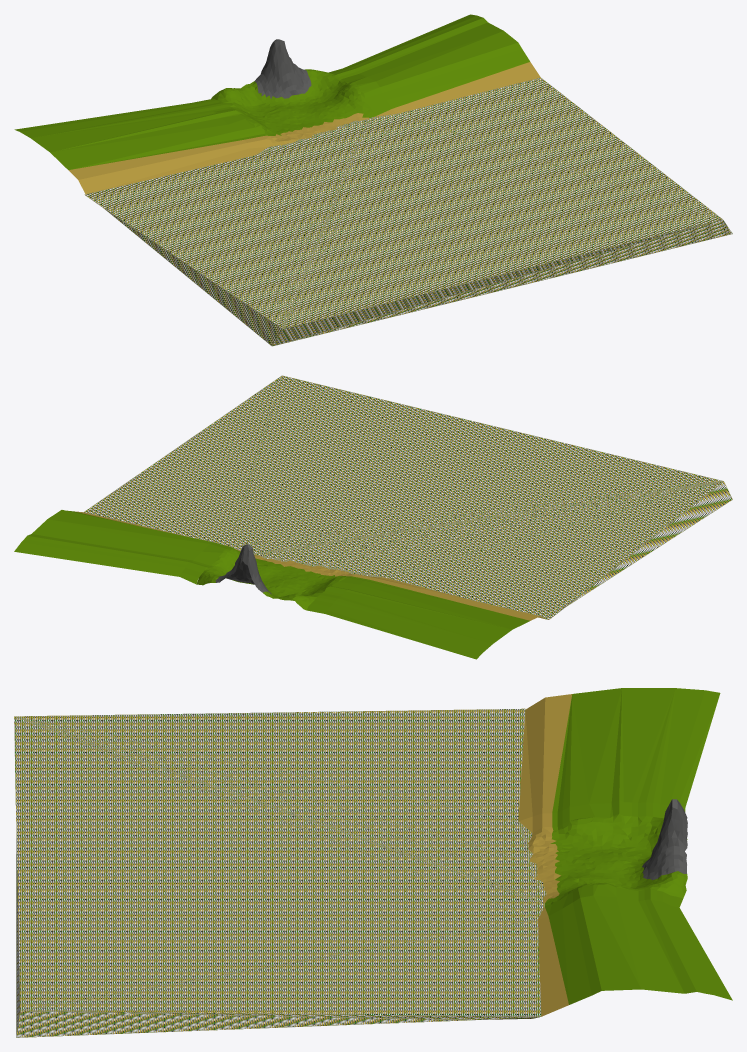
File: beacj.FBX
3 renders of one model, top to bottom at view 1: azimuth 30°, elevation 25°; view 2: azimuth 150°, elevation 25°; view 3: azimuth 270°, elevation 25°, orthographic. The views are drawn at different scales.
Visible parts, largest first — view 1: Object003, beachFar, beach0; view 2: Object003, beachFar, beach0; view 3: Object003, beachFar, beach0.
Boxes of the visible parts, bbox=[...] form: Object003: bbox=[84, 77, 732, 346]; beachFar: bbox=[14, 14, 540, 194]; beach0: bbox=[211, 39, 373, 146]; Object003: bbox=[84, 375, 732, 619]; beachFar: bbox=[14, 510, 546, 659]; beach0: bbox=[196, 544, 355, 610]; Object003: bbox=[14, 708, 546, 1037]; beachFar: bbox=[518, 688, 732, 1016]; beach0: bbox=[528, 799, 687, 906].
Bounding box in the file's own units: 103 × 15.07 × 102.
1 material, 1 textured.
